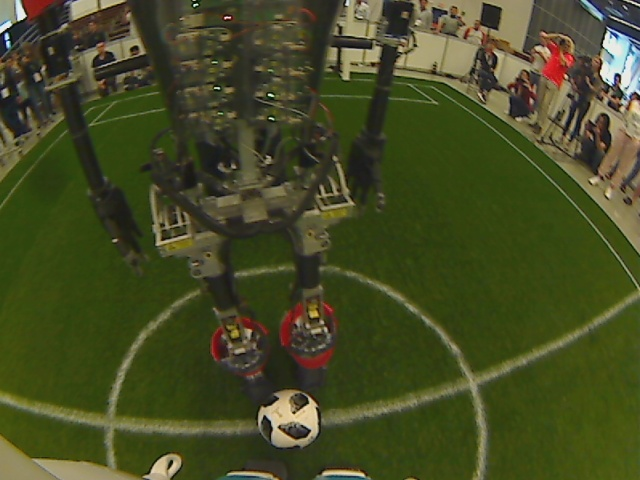ball: (254, 389, 323, 453)
